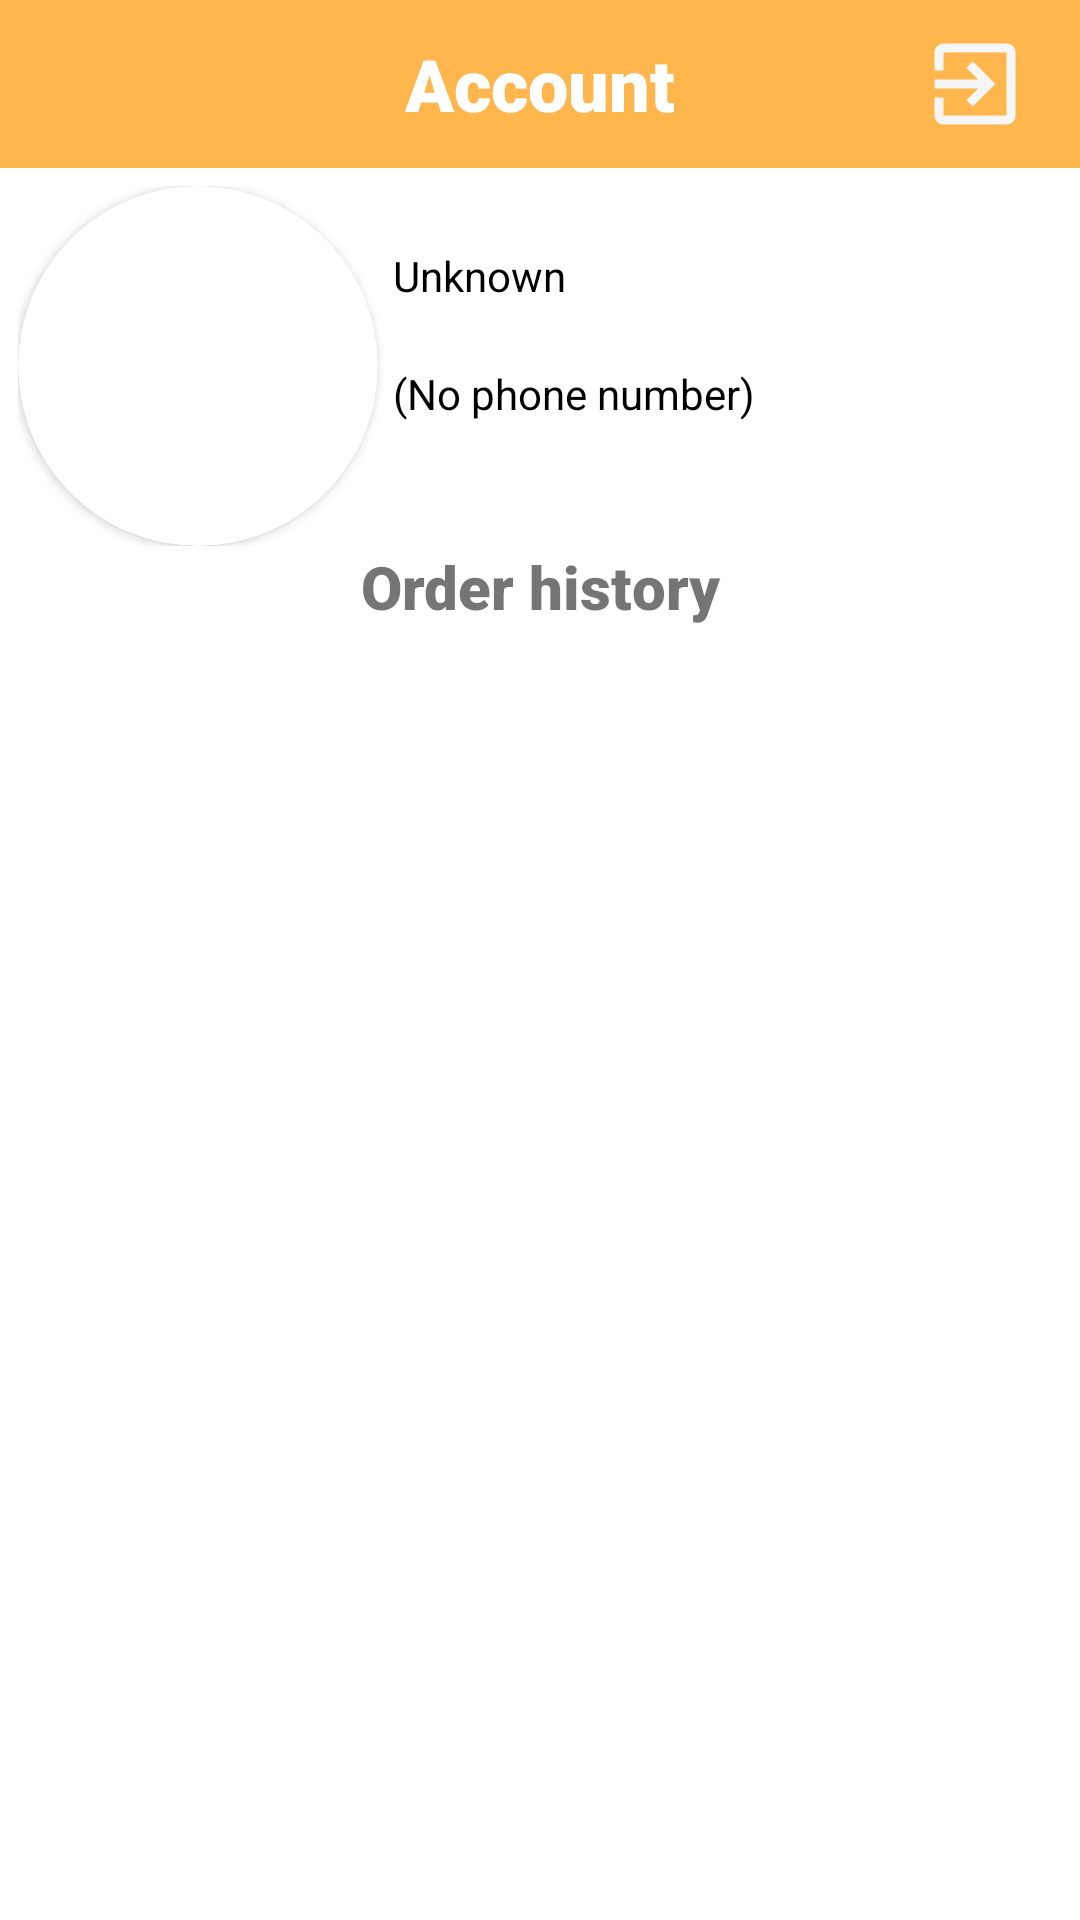

Named icons in this screenshot (1080*1920) and their centers, point (x, y):
exit to app: point (975, 84)
